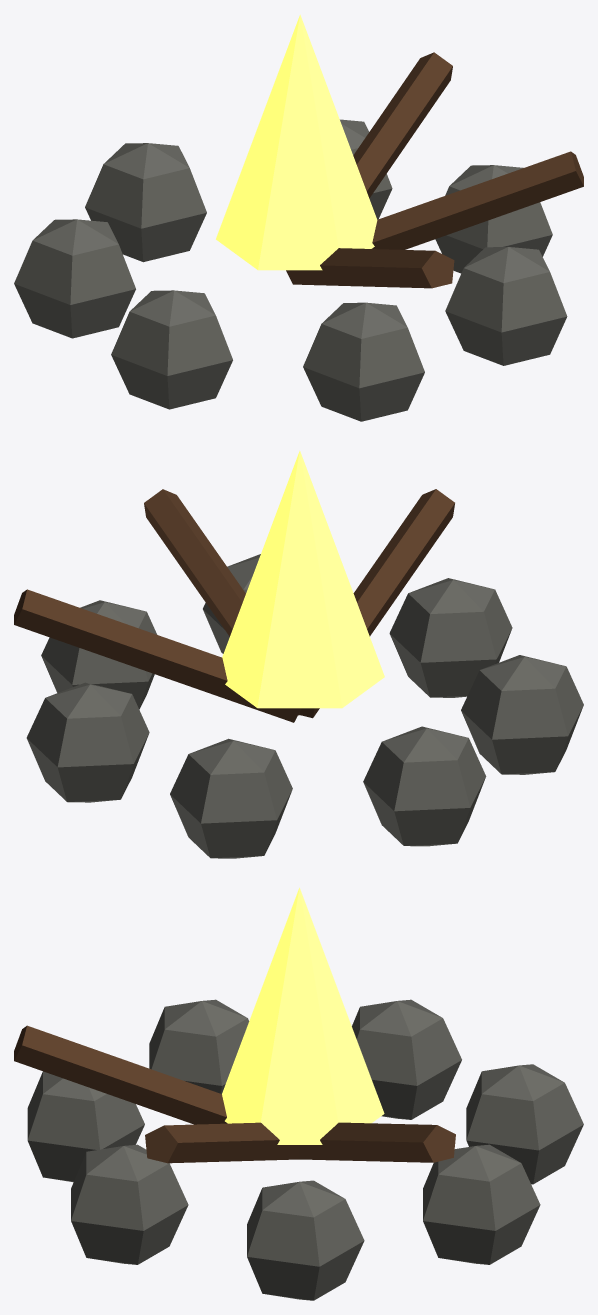
The model's file is prop_campfire.glb.
The picture shows the model from 3 angles, top to bottom: view 1: azimuth 30°, elevation 25°; view 2: azimuth 150°, elevation 25°; view 3: azimuth 270°, elevation 25°; orthographic projection.
Parts seen in each view (by area): view 1: prop_campfire; view 2: prop_campfire; view 3: prop_campfire.
Boxes of the visible parts, bbox=[...] form: prop_campfire: bbox=[14, 14, 583, 421]; prop_campfire: bbox=[14, 450, 583, 858]; prop_campfire: bbox=[14, 887, 583, 1300].
Bounding box in the file's own units: 1.1 × 0.7 × 1.14.
